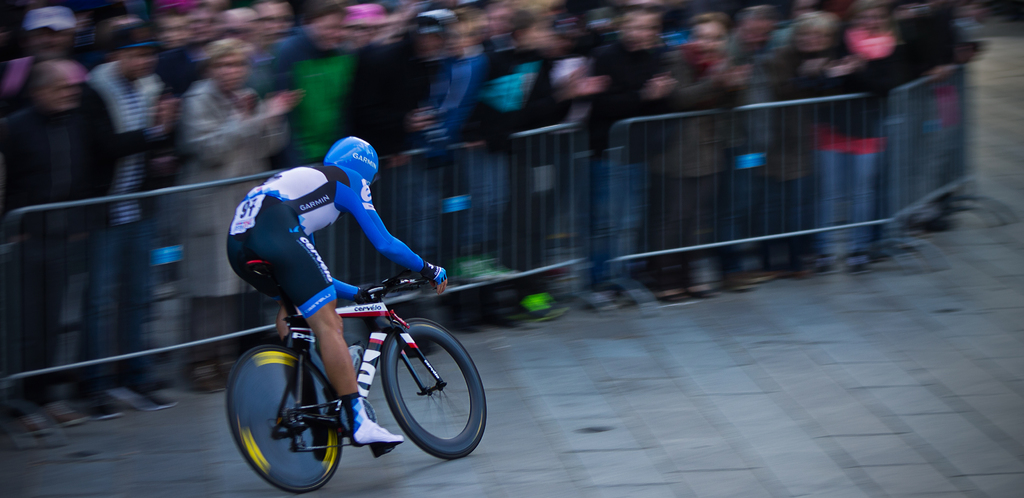Bike: (214, 257, 491, 490)
